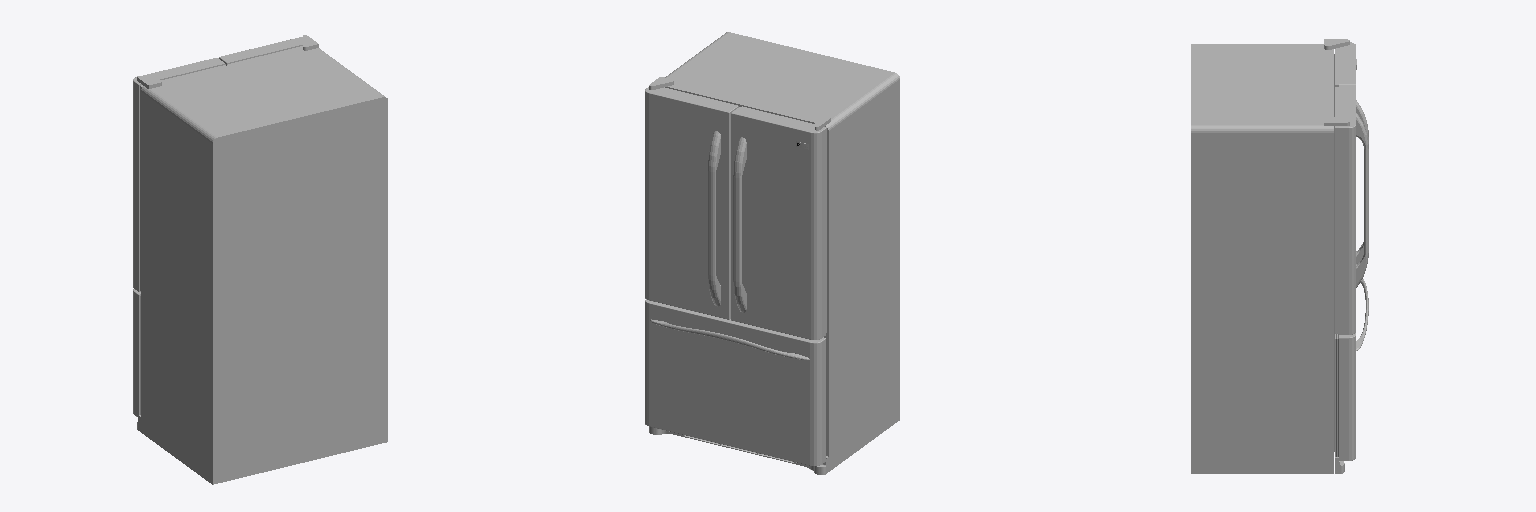
File: Fridge_4.obj
3 views of the same model, side by side, from view 1: azimuth 30°, elevation 25°; view 2: azimuth 150°, elevation 25°; view 3: azimuth 270°, elevation 25° (orthographic).
Parts seen in each view (by area): view 1: Mesh1 Group_89_1 Model; view 2: Mesh1 Group_89_1 Model, Mesh7 Group_89_1 Model, Mesh9 Group_89_1 Model; view 3: Mesh1 Group_89_1 Model, Mesh7 Group_89_1 Model.
Boxes of the visible parts, x1=… form: Mesh1 Group_89_1 Model: x1=133, y1=35, x2=387, y2=484; Mesh1 Group_89_1 Model: x1=645, y1=32, x2=899, y2=474; Mesh7 Group_89_1 Model: x1=708, y1=131, x2=720, y2=306; Mesh9 Group_89_1 Model: x1=650, y1=319, x2=809, y2=359; Mesh1 Group_89_1 Model: x1=1191, y1=39, x2=1368, y2=473; Mesh7 Group_89_1 Model: x1=1356, y1=113, x2=1368, y2=287.
Bounding box in the file's own units: 0.9144 × 1.74 × 0.8006.